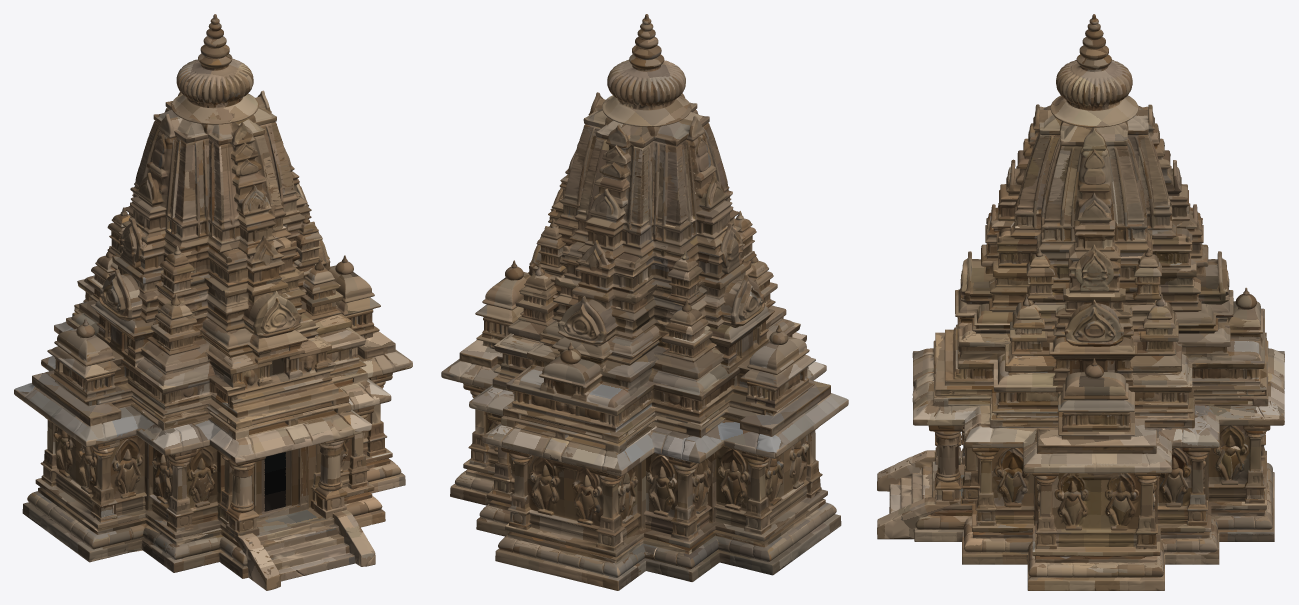
Rendered from dneg-opt.glb.
3 renders of one model, left to right at view 1: azimuth 30°, elevation 25°; view 2: azimuth 150°, elevation 25°; view 3: azimuth 270°, elevation 25°, orthographic. The views are drawn at different scales.
Parts seen in each view (by area): view 1: node_0; view 2: node_0; view 3: node_0.
Part boxes in pixels (x1,y1,x2,y2): node_0: (14,14,412,590); node_0: (441,14,848,590); node_0: (877,14,1284,590).
Size of the model in its own units: 0.67 by 0.9515 by 0.706.
Materials: 1 (1 with a texture image).
